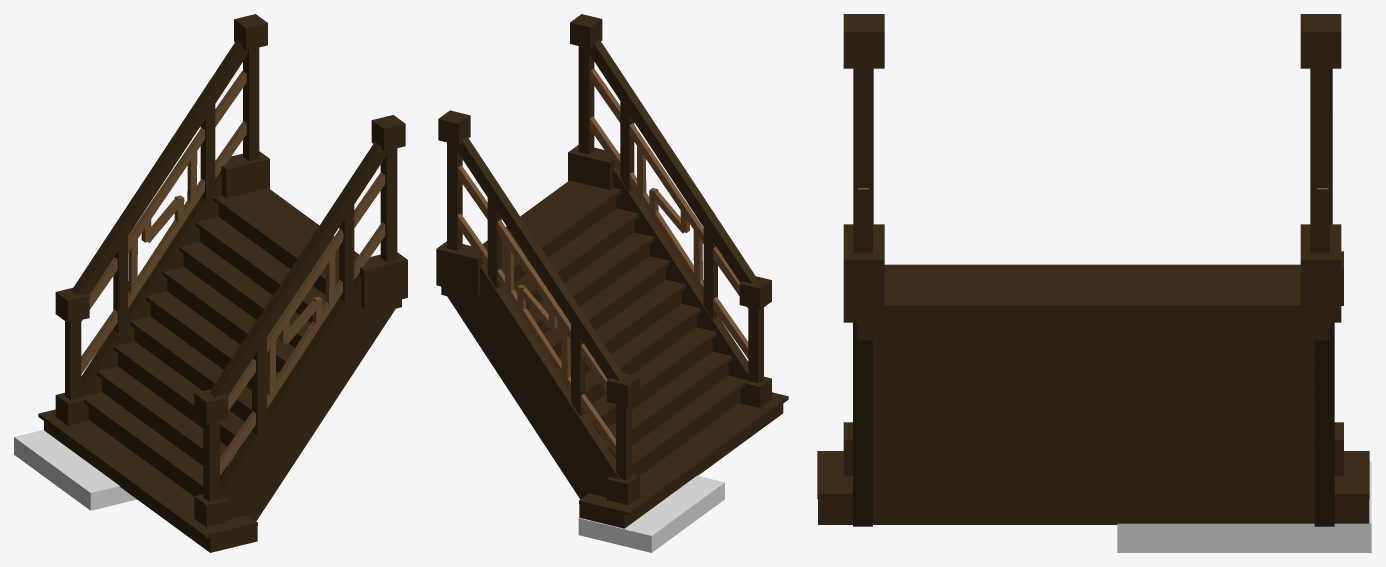
The model's file is stairs3 full.fbx.
The picture shows the model from 3 angles, left to right: view 1: azimuth 30°, elevation 25°; view 2: azimuth 150°, elevation 25°; view 3: azimuth 270°, elevation 25°; orthographic projection. The views are drawn at different scales.
Parts seen in each view (by area): view 1: Cube.193, Cube.183, Cube.205, Cube.201, Cube.191, Cube.148, Cube.013, Cube.204, Cube.184, Cube.190, Cube.185, Cube.186 (+33 smaller); view 2: Cube.204, Cube.183, Cube.205, Cube.201, Cube.191, Cube.013, Cube.193, Cube.148, Cube.184, Cube.190, Cube.185, Cube.186 (+33 smaller); view 3: Cube.191, Cube.183, Cube.186, Cube.148, Cube.184, Cube.189, Cube.188, Cube.185, Cube.187, Cube.013, Cube.190, Cube.204 (+7 smaller).
Part boxes in pixels (left/top/right/bottom): Cube.193: left=215, top=275, right=401, bottom=521; Cube.183: left=38, top=409, right=257, bottom=552; Cube.205: left=71, top=40, right=247, bottom=295; Cube.201: left=209, top=141, right=386, bottom=397; Cube.191: left=213, top=188, right=401, bottom=308; Cube.148: left=81, top=391, right=203, bottom=496; Cube.013: left=14, top=429, right=136, bottom=510; Cube.204: left=81, top=173, right=221, bottom=396; Cube.184: left=97, top=366, right=236, bottom=478; Cube.190: left=195, top=216, right=325, bottom=322; Cube.185: left=113, top=341, right=251, bottom=452; Cube.186: left=130, top=316, right=251, bottom=421; Cube.204: left=441, top=263, right=620, bottom=499; Cube.183: left=579, top=392, right=788, bottom=528; Cube.205: left=452, top=136, right=625, bottom=380; Cube.201: left=585, top=39, right=757, bottom=283; Cube.191: left=441, top=180, right=621, bottom=295; Cube.013: left=578, top=475, right=724, bottom=552; Cube.193: left=613, top=166, right=752, bottom=381; Cube.148: left=615, top=375, right=748, bottom=475; Cube.184: left=599, top=351, right=732, bottom=458; Cube.190: left=514, top=208, right=638, bottom=309; Cube.185: left=585, top=327, right=716, bottom=433; Cube.186: left=585, top=303, right=700, bottom=403; Cube.191: left=857, top=264, right=1329, bottom=340; Cube.183: left=817, top=451, right=1369, bottom=524; Cube.186: left=869, top=418, right=1318, bottom=440; Cube.148: left=873, top=483, right=1314, bottom=505; Cube.184: left=873, top=461, right=1314, bottom=483; Cube.189: left=869, top=355, right=1318, bottom=376; Cube.188: left=869, top=376, right=1318, bottom=397; Cube.185: left=873, top=440, right=1314, bottom=461; Cube.187: left=873, top=398, right=1314, bottom=418; Cube.013: left=1117, top=461, right=1371, bottom=552; Cube.190: left=869, top=340, right=1318, bottom=355; Cube.204: left=1314, top=322, right=1334, bottom=526.
Bounding box in the file's own units: 1432 × 2279 × 1767.
